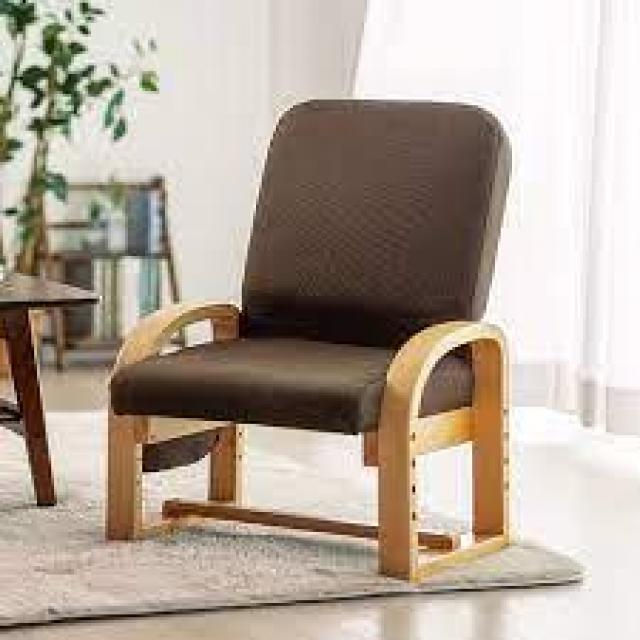chair: (105, 66, 521, 574)
